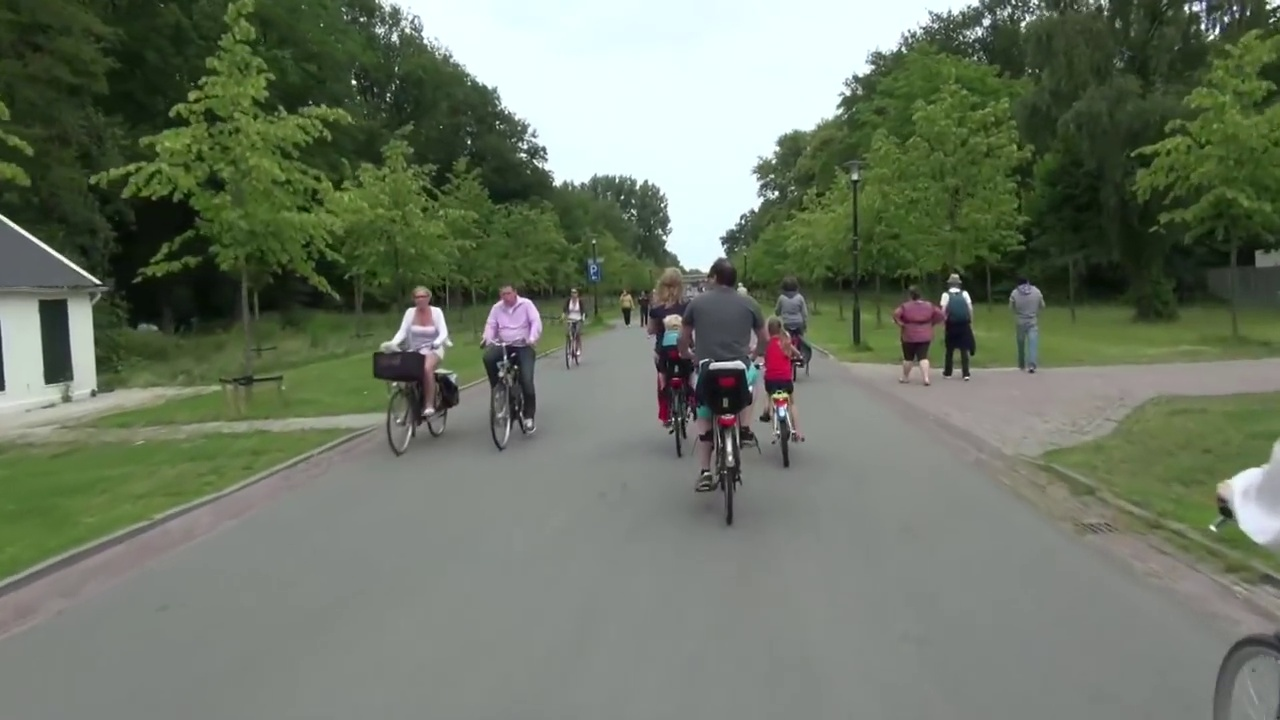cyclist_back: (681, 255, 756, 538), (650, 265, 700, 458), (761, 313, 802, 469), (778, 275, 816, 382)
cyclist_front: (375, 276, 466, 453), (474, 278, 548, 451), (561, 282, 593, 380)
